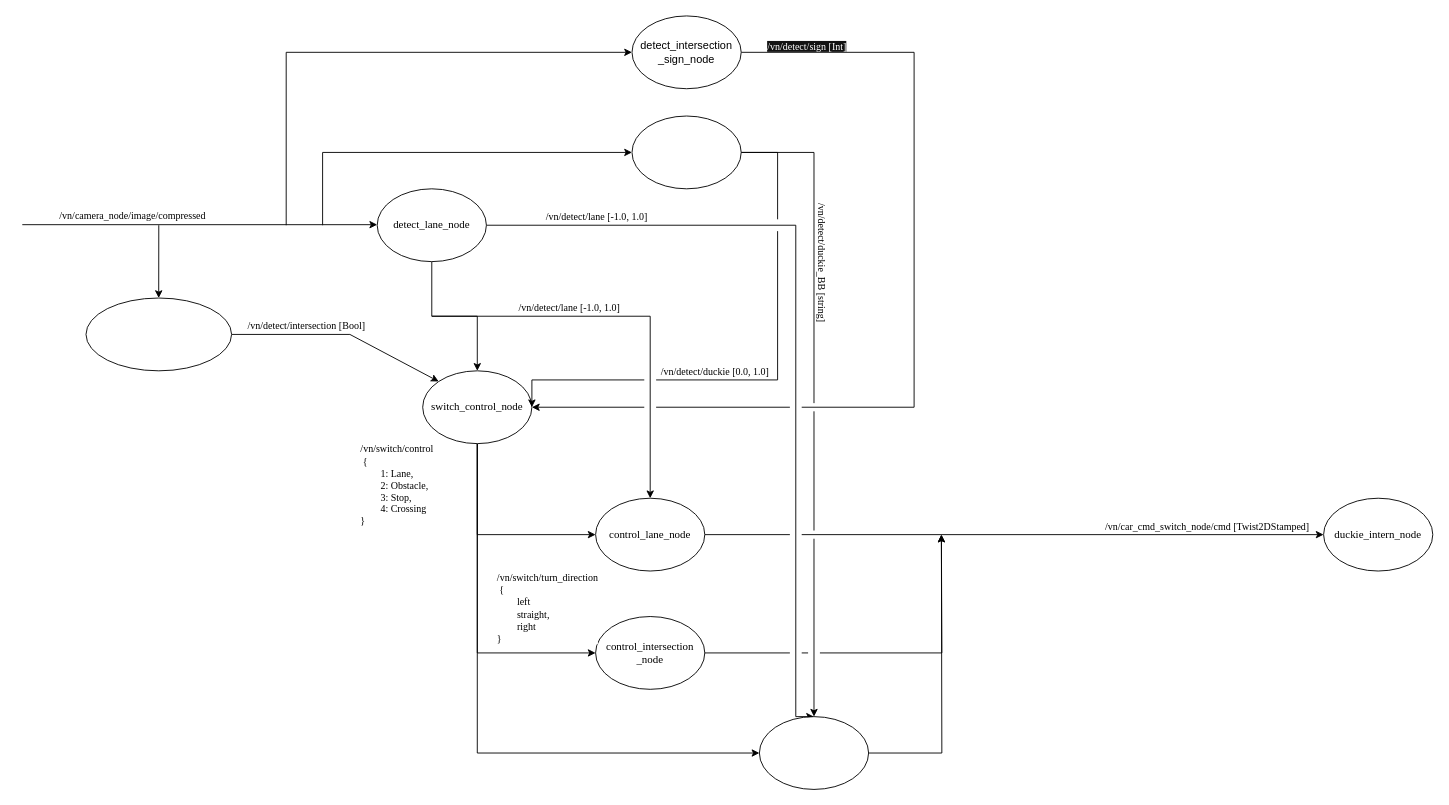
Some shapes in this 1449 by 805 pixel diagram are drawn without their labels. Each missing label, with the centre of its shape:
control_obstacle _node: (x=813, y=752)
detect_intersection_node: (x=158, y=334)
detect_obstacle_node: (x=686, y=152)
